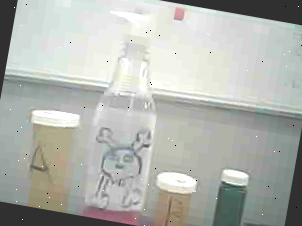Bottle A: (6, 96, 89, 214)
Bottle B: (142, 157, 208, 226)
Bottle C: (205, 160, 259, 226)
hazard: (62, 0, 188, 226)
